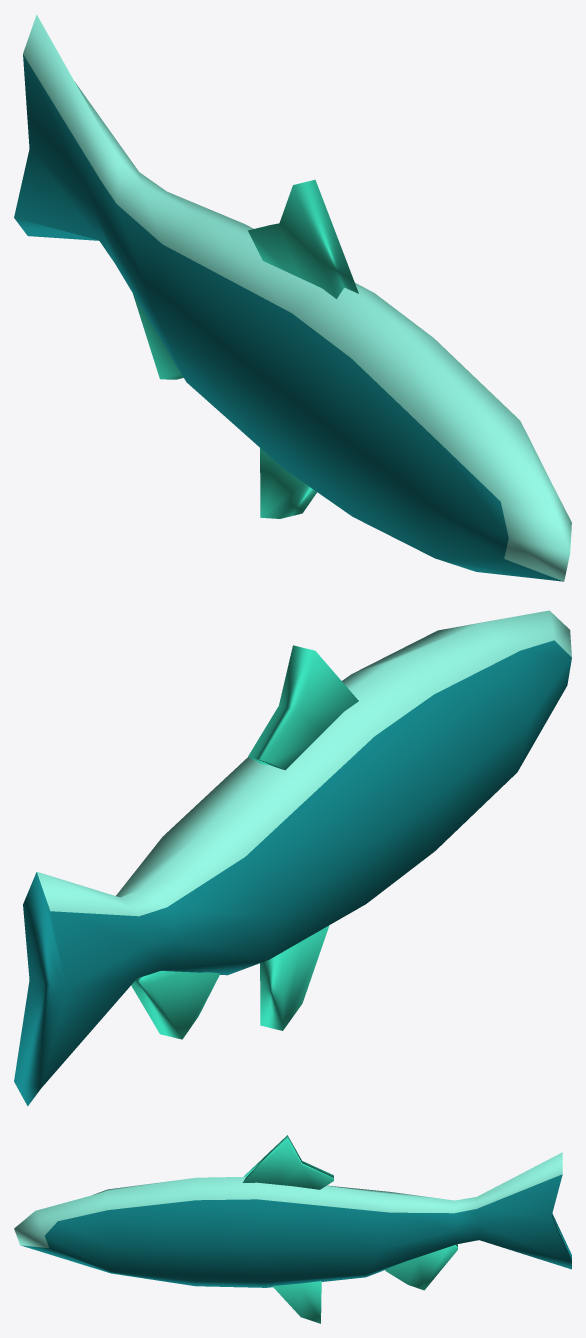
File: Fish.fbx
The picture shows the model from 3 angles, top to bottom: view 1: azimuth 30°, elevation 25°; view 2: azimuth 150°, elevation 25°; view 3: azimuth 270°, elevation 25°; orthographic projection. The views are drawn at different scales.
Visible parts, largest first — view 1: Fish; view 2: Fish; view 3: Fish.
Boxes of the visible parts, x1,y1,x2,y2 form: Fish: (14,14,571,581); Fish: (14,610,571,1106); Fish: (14,1135,571,1323).
Size of the model in its own units: 57.95 by 162 by 447.
